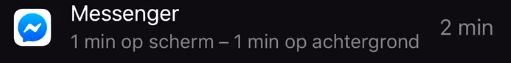name: (66, 2, 185, 30)
time: (232, 30, 284, 58), (69, 32, 121, 57)
